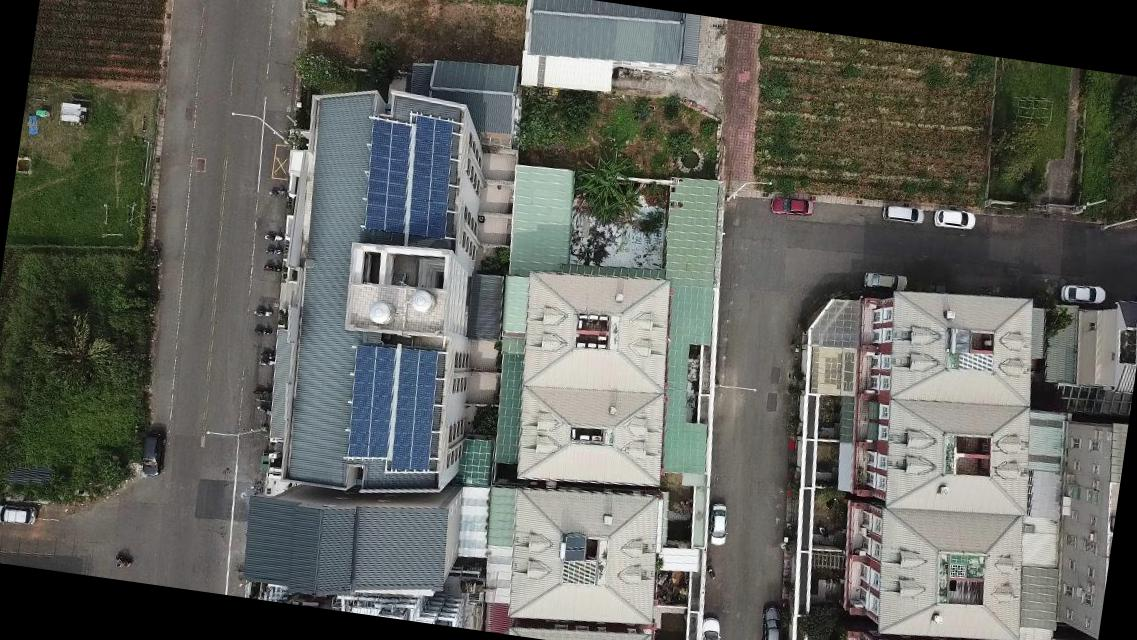vehicle: (138, 431, 170, 477), (704, 502, 733, 550), (861, 268, 910, 296), (1059, 280, 1107, 308), (754, 599, 786, 639), (879, 202, 927, 228), (930, 207, 978, 233), (769, 193, 815, 220), (0, 500, 38, 529), (695, 615, 726, 639)
